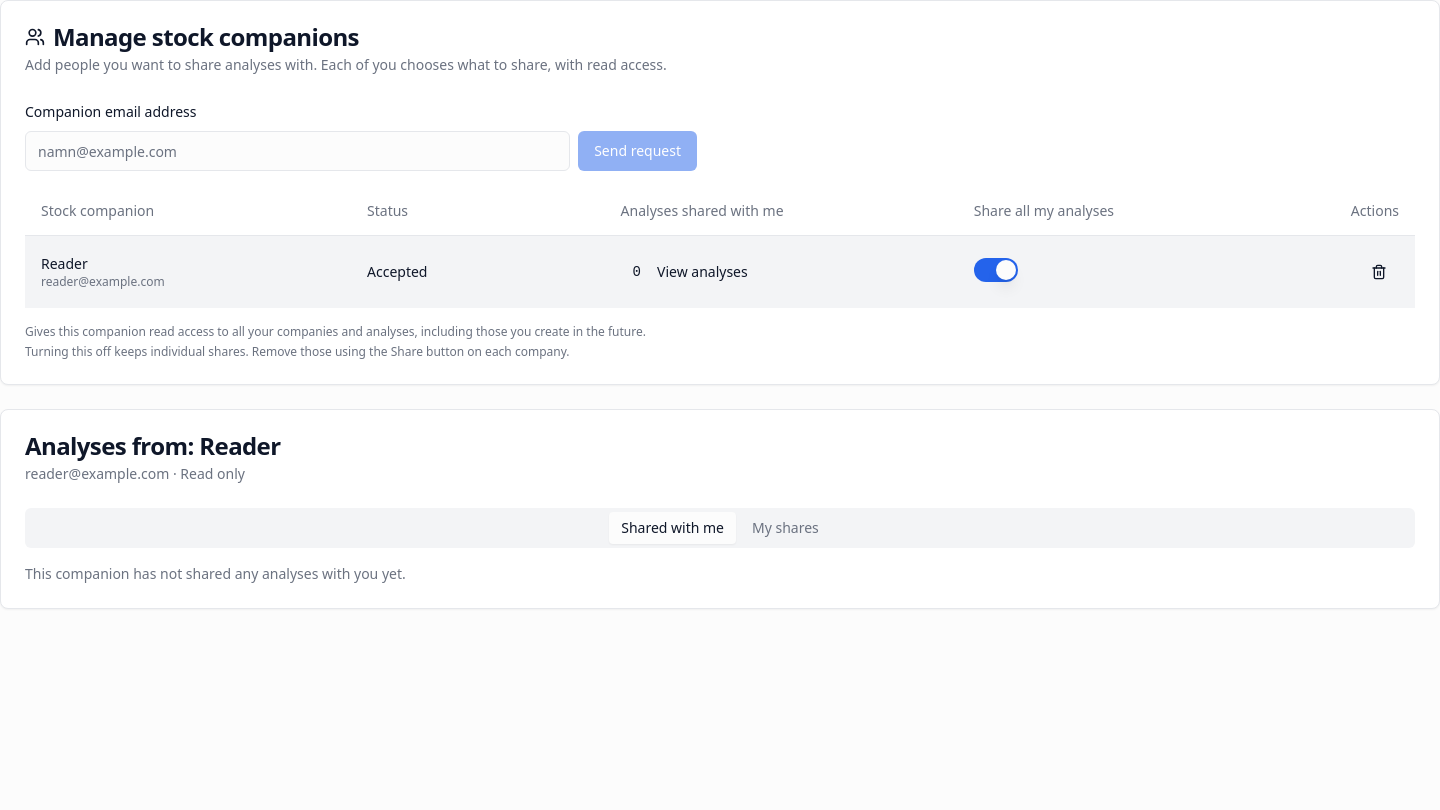
Test: stock companion page › lists outgoing analyses from global grants and individual grants without duplicates
Expected: the text "Reader" is shown, [41,254,88,272]
Press the mouse on the tab "My shares" at (785, 528), box [740,512,831,544]
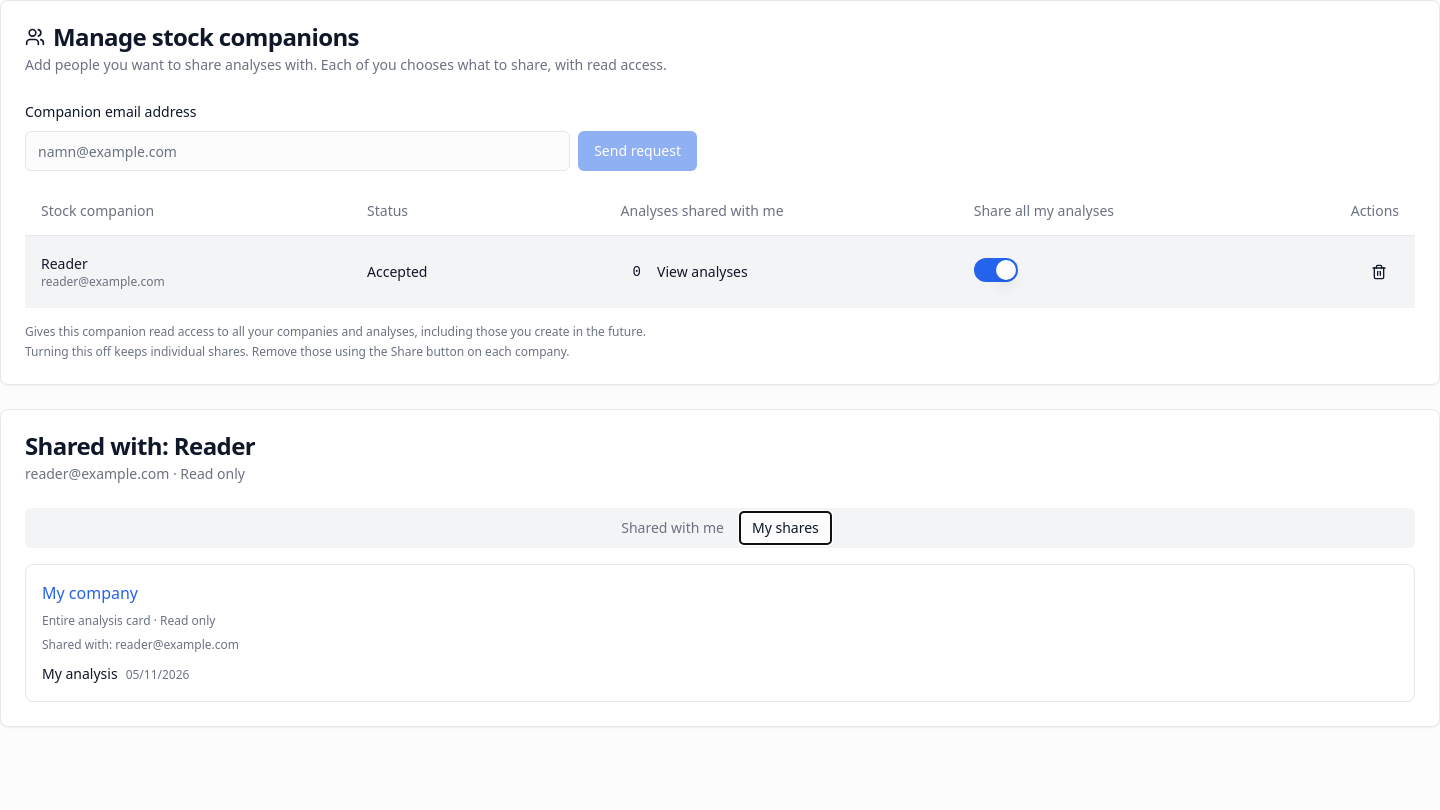
Result: the text "Shared with: reader@example.com" is shown at [42,636,239,652]
Result: the number of links "My company" is 1 at [42,582,138,604]
